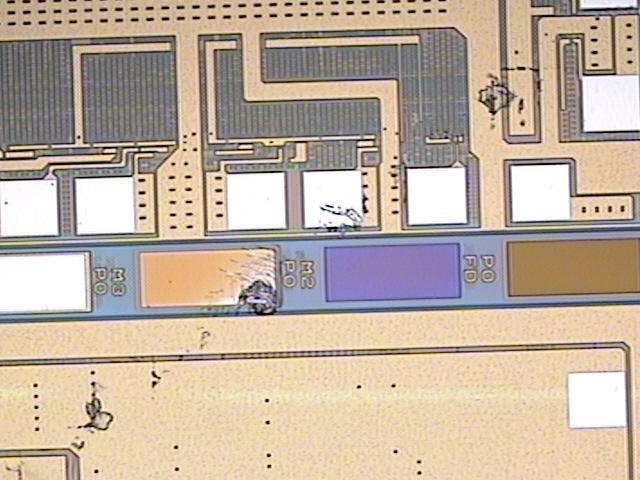SCRATCH: (59, 64, 553, 455)
